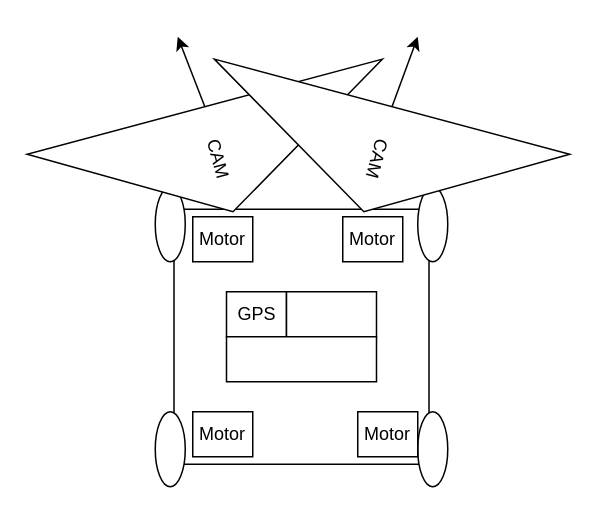
Image size: 596x513. Some labels were removed from this diagram. The shapes that lost their labels are listed below. From the top down, each one's centre as x and y in pixels, then its label:
At point (330, 313): "google map".
At point (300, 358): "processor".
